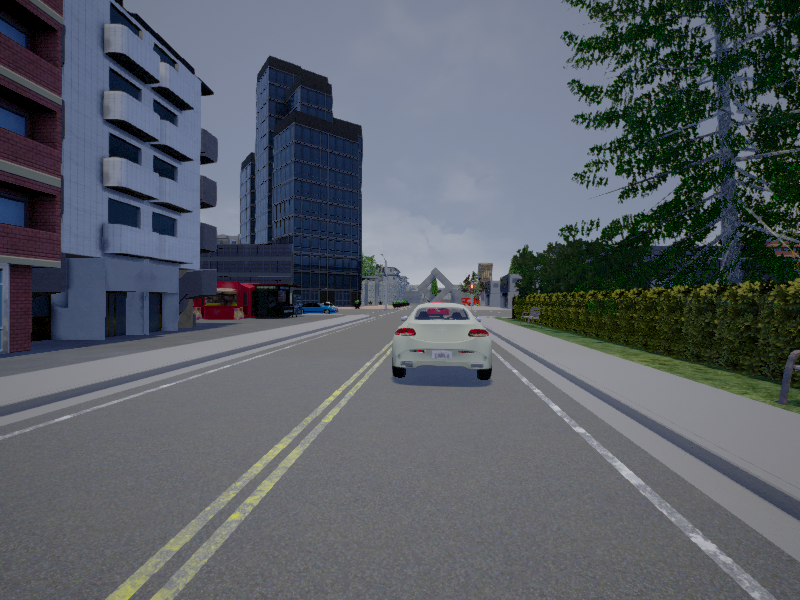Benign: (392, 304, 493, 382), (302, 303, 337, 313)
